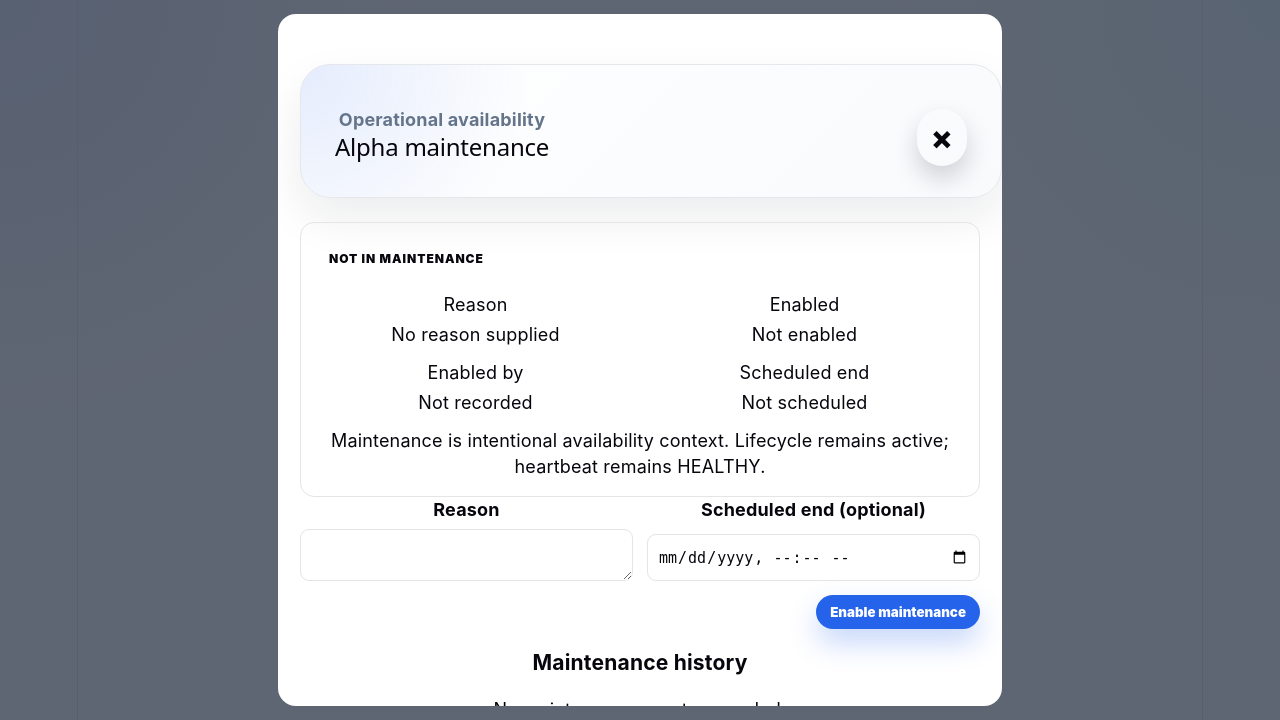
Test case: DeviceMaintenanceDialog › enables scheduled maintenance after confirmation and refreshes state
Expected: the button "Enable maintenance" is shown, [816, 595, 980, 629]
Type "Planned upgrade" into the text box named "Maintenance reason" at (466, 555), box [300, 529, 633, 581]
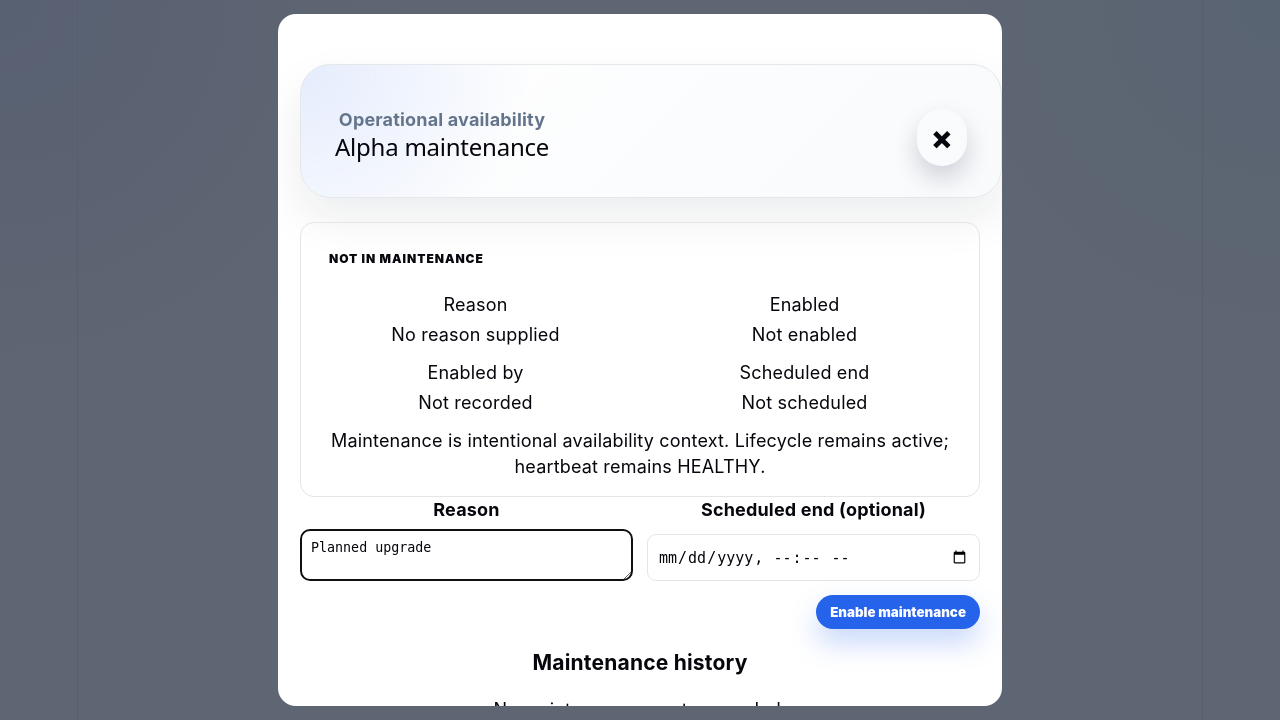
Type "2099-01-01T10:00" into the field named "Scheduled maintenance end" at (814, 558), box [647, 534, 980, 581]
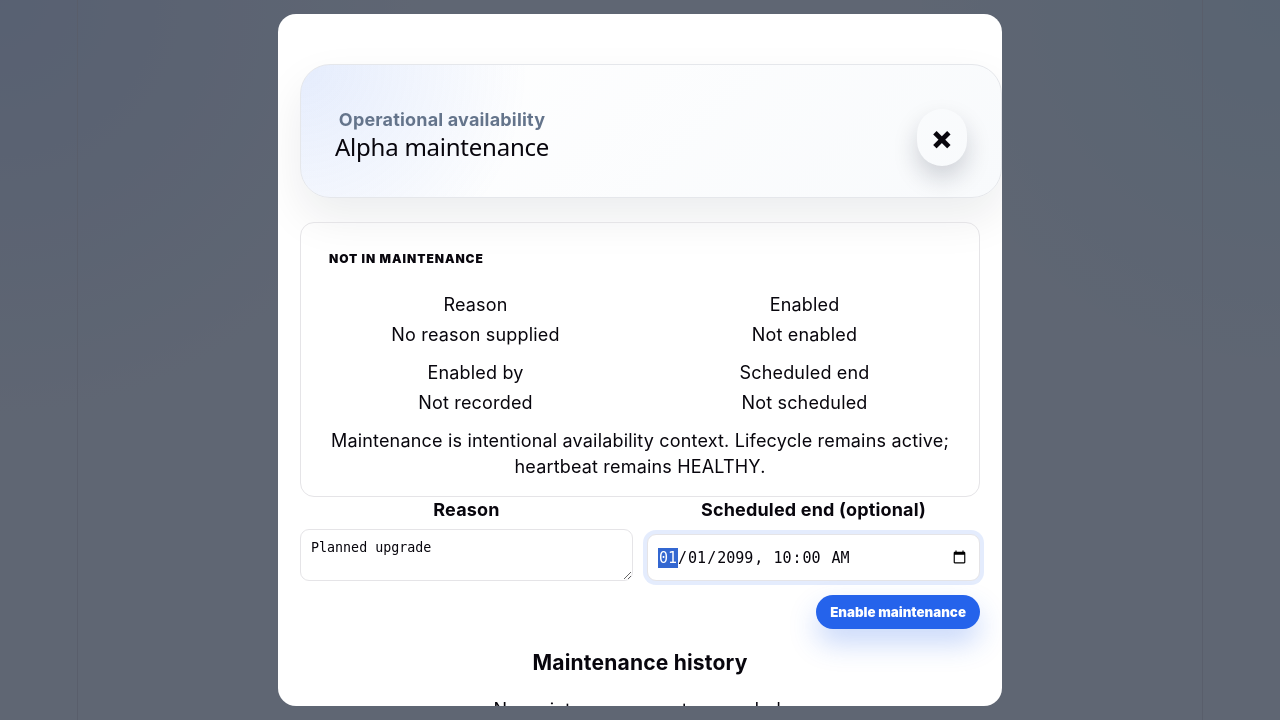
Click the button "Enable maintenance" at (898, 612), box [816, 595, 980, 629]
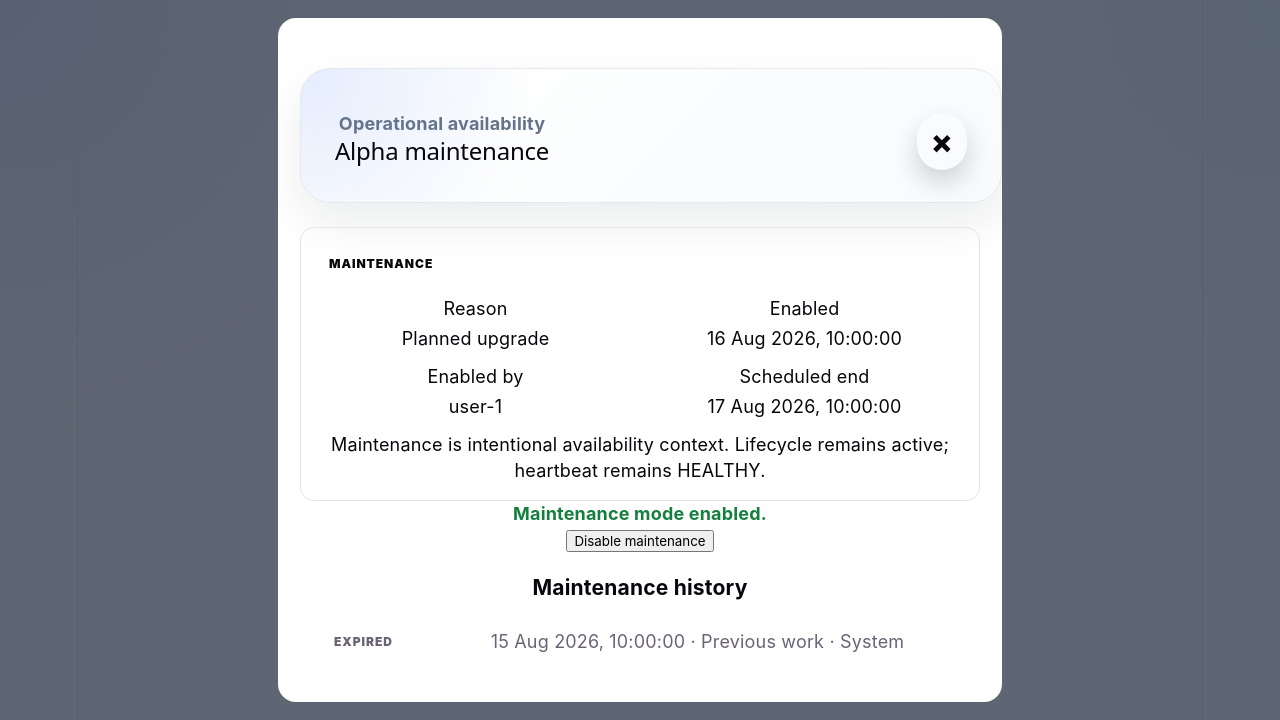
Expected: the text "Maintenance mode enabled." is shown, [513, 503, 767, 524]
